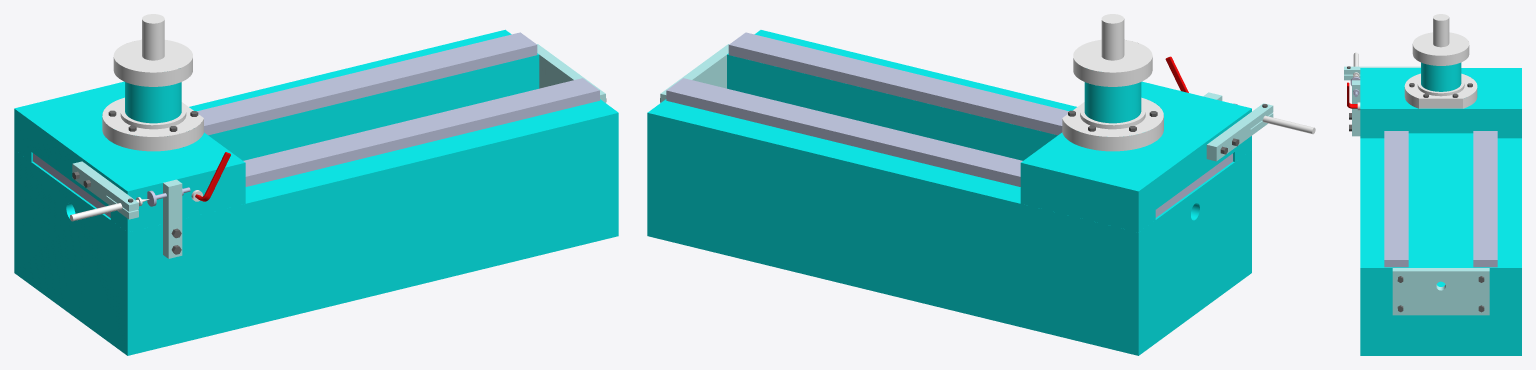
Rendered from base_slider1.obj.
The picture shows the model from 3 angles, left to right: view 1: azimuth 30°, elevation 25°; view 2: azimuth 150°, elevation 25°; view 3: azimuth 270°, elevation 25°; orthographic projection. The views are drawn at different scales.
Parts seen in each view (by area): view 1: NONE_DC_Shell, _2_1__DC_Shell, _2_2__DC_Shell; view 2: NONE_DC_Shell, _2_2__DC_Shell, _2_1__DC_Shell; view 3: NONE_DC_Shell, _2_1__DC_Shell, _2_2__DC_Shell.
Boxes of the visible parts, box(x1,y1,x2,y2) form: NONE_DC_Shell: box(14, 14, 618, 355); _2_1__DC_Shell: box(95, 78, 599, 217); _2_2__DC_Shell: box(33, 32, 537, 173); NONE_DC_Shell: box(647, 14, 1315, 355); _2_2__DC_Shell: box(666, 78, 1170, 217); _2_1__DC_Shell: box(728, 32, 1232, 173); NONE_DC_Shell: box(1344, 14, 1521, 355); _2_1__DC_Shell: box(1384, 131, 1408, 267); _2_2__DC_Shell: box(1473, 131, 1497, 267).
Bounding box in the file's own units: 287 × 134 × 110.
